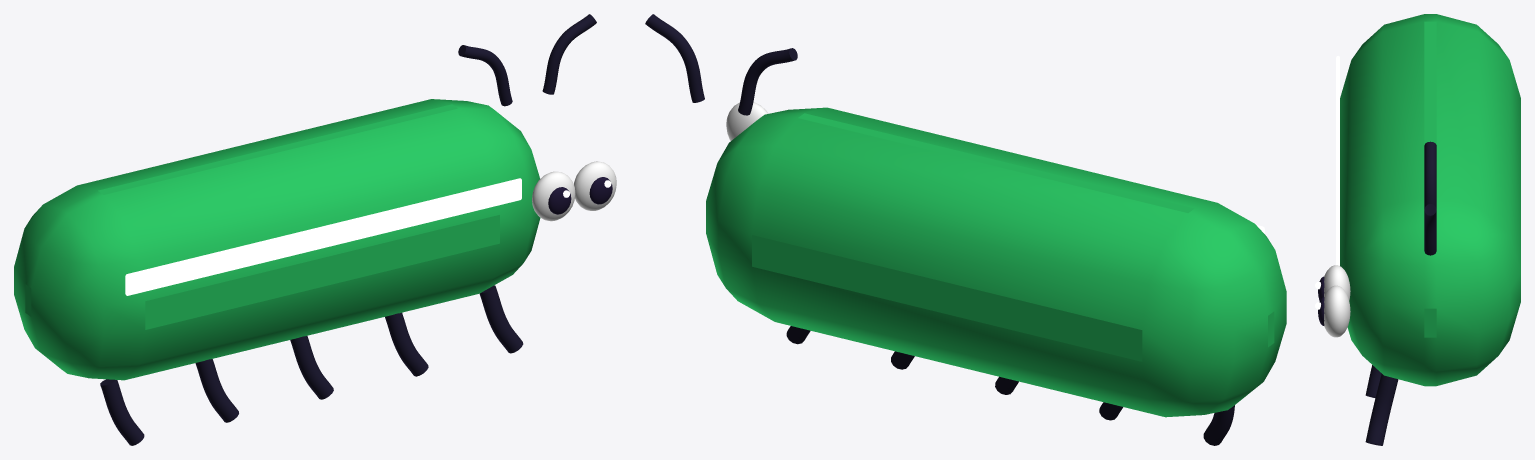
The model's file is clanek_zeleny.glb.
3 views of the same model, side by side, from view 1: azimuth 30°, elevation 25°; view 2: azimuth 150°, elevation 25°; view 3: azimuth 270°, elevation 25° (orthographic). The views are drawn at different scales.
Parts seen in each view (by area): view 1: clanek_zeleny_m, clanek_zeleny_pruh, hlava_zeleny, clanek_zeleny_noha_m_-2, clanek_zeleny_noha_m_2, clanek_zeleny_noha_m_0, clanek_zeleny_noha_m_1, clanek_zeleny_noha_m_-1, hlava_zeleny_tykadlo_-1; view 2: clanek_zeleny_m, hlava_zeleny, hlava_zeleny_tykadlo_-1, clanek_zeleny_noha_m_-2; view 3: clanek_zeleny_m, hlava_zeleny, clanek_zeleny_noha_m_2, clanek_zeleny_pruh, hlava_zeleny_tykadlo_-1, clanek_zeleny_noha_m_1.
Boxes of the visible parts, x1,y1,x2,y2 form: clanek_zeleny_m: (14, 99, 540, 380); clanek_zeleny_pruh: (125, 178, 521, 295); hlava_zeleny: (532, 14, 616, 221); clanek_zeleny_noha_m_-2: (100, 379, 144, 445); clanek_zeleny_noha_m_2: (479, 285, 523, 353); clanek_zeleny_noha_m_0: (290, 336, 333, 399); clanek_zeleny_noha_m_1: (385, 312, 428, 376); clanek_zeleny_noha_m_-1: (195, 359, 238, 422); hlava_zeleny_tykadlo_-1: (458, 45, 512, 106); clanek_zeleny_m: (706, 107, 1286, 417); hlava_zeleny: (645, 14, 768, 140); hlava_zeleny_tykadlo_-1: (738, 48, 797, 115); clanek_zeleny_noha_m_-2: (1203, 405, 1234, 445); clanek_zeleny_m: (1340, 14, 1520, 386); hlava_zeleny: (1315, 203, 1436, 337); clanek_zeleny_noha_m_2: (1365, 373, 1398, 445); clanek_zeleny_pruh: (1336, 56, 1339, 265); hlava_zeleny_tykadlo_-1: (1424, 141, 1436, 208); clanek_zeleny_noha_m_1: (1365, 365, 1381, 397).
Bounding box in the file's own units: 3.29 × 1.62 × 1.02.
